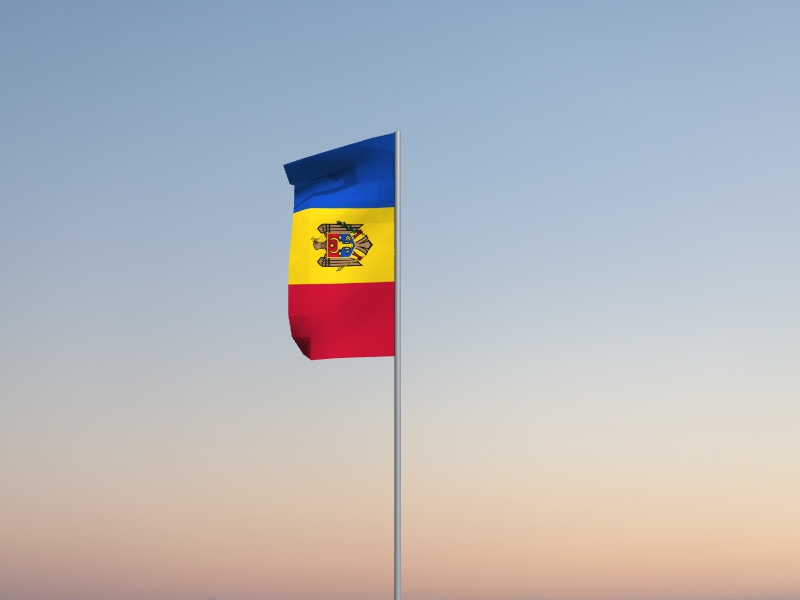md: (282, 133, 395, 362)
